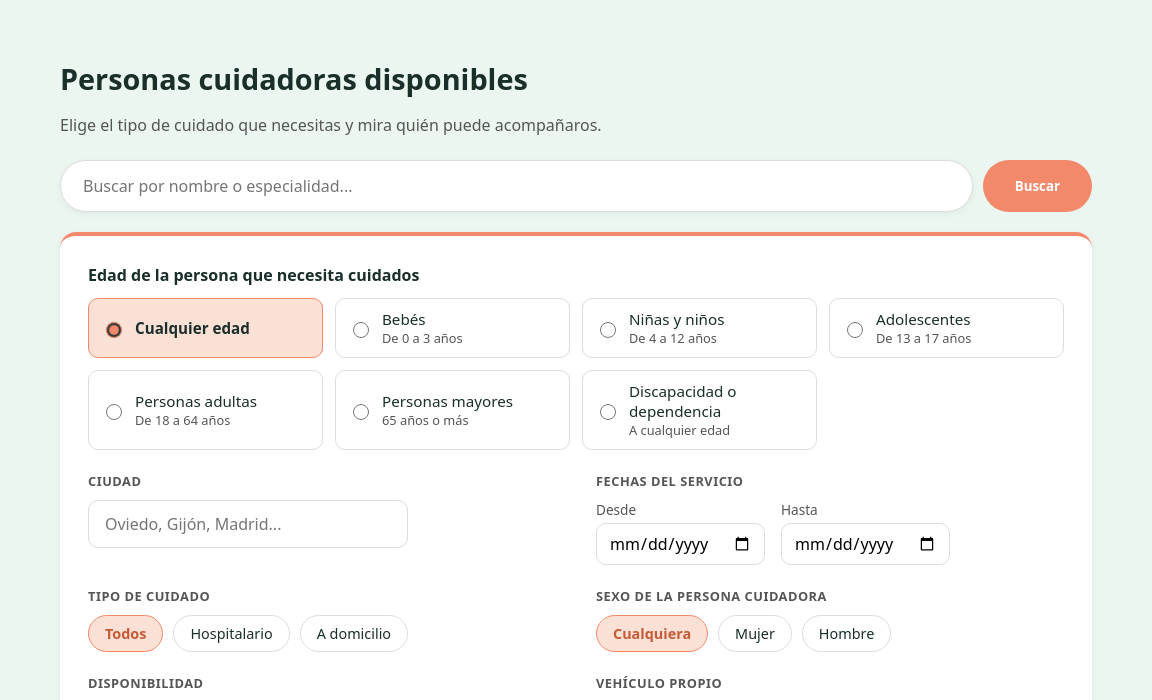
BuscarView › combina el filtro de sexo con el de servicios
Click the button with id "filtro-sexo-mujer" at [755, 634], box [718,615,792,652]
(page scrolled)
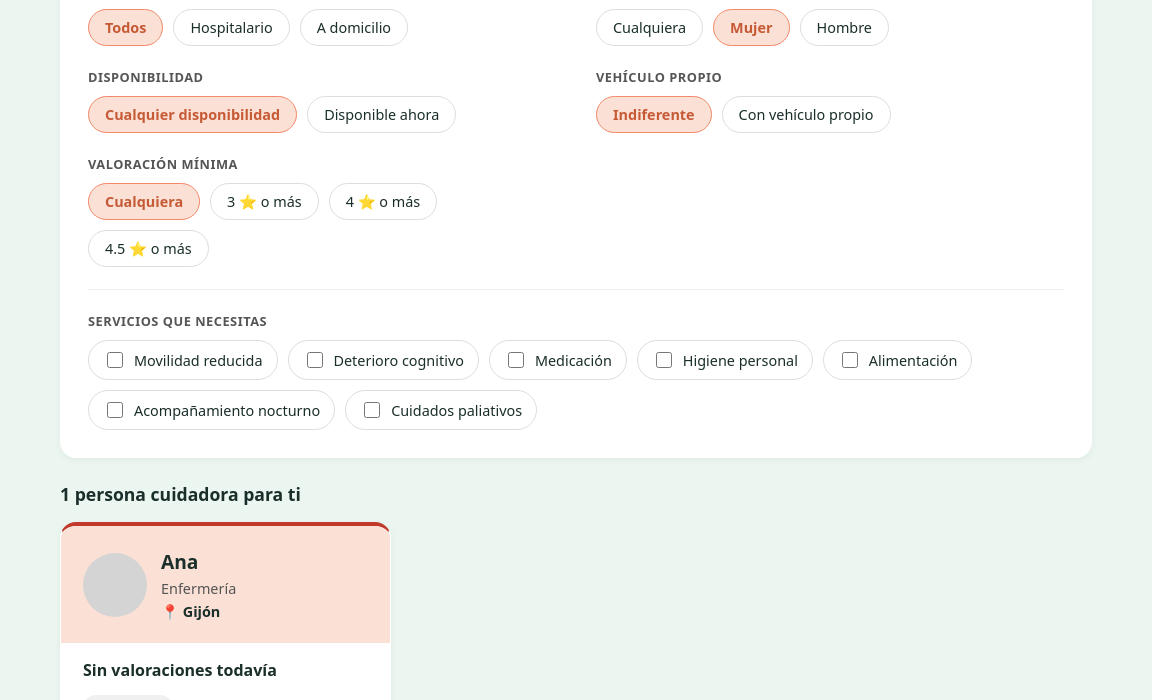
Click the checkbox with id "filtro-servicio-higiene" at [664, 360], box [656,352,672,368]
(page scrolled)
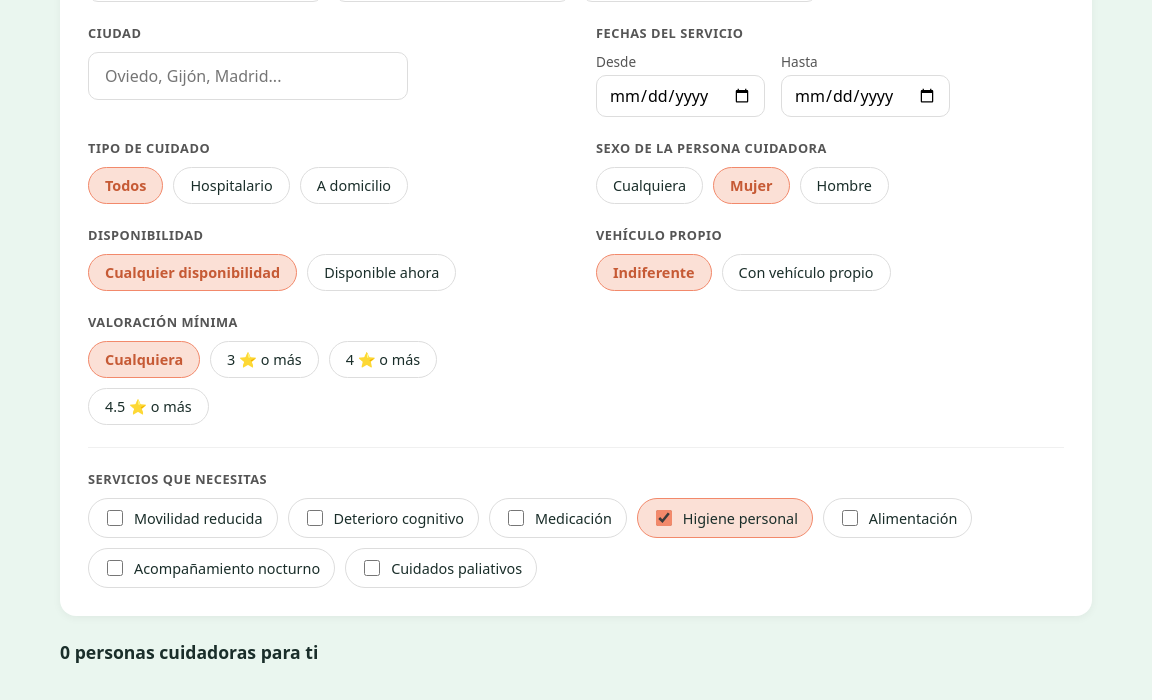
Result: the text "Ana" is gone
Result: the text "0 personas cuidadoras" is shown at [60,640,318,664]
